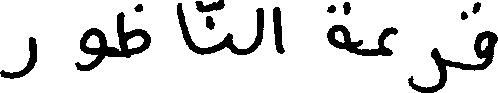X: (118, 0, 146, 62), (0, 32, 34, 83), (475, 0, 497, 74), (411, 43, 444, 92), (76, 23, 103, 75), (327, 0, 347, 55), (177, 0, 193, 56), (380, 22, 395, 60), (223, 0, 231, 56), (274, 2, 282, 58), (256, 3, 262, 53)
